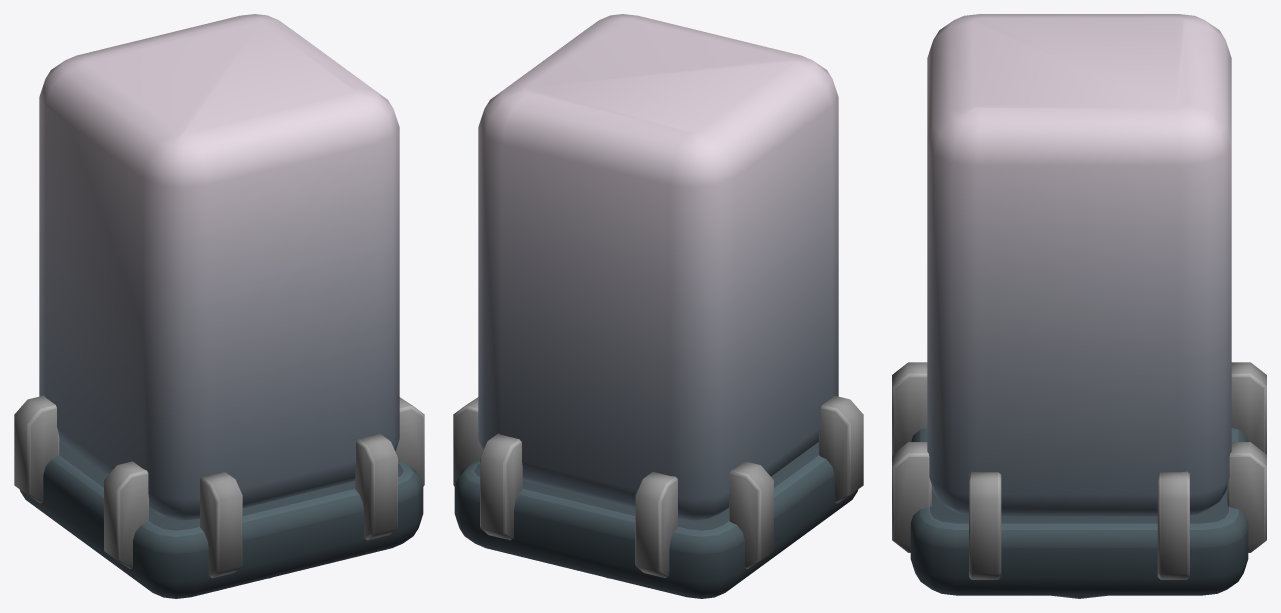
The model's file is sp_food_grower_can_onion.fbx.
3 renders of one model, left to right at view 1: azimuth 30°, elevation 25°; view 2: azimuth 150°, elevation 25°; view 3: azimuth 270°, elevation 25°, orthographic. The views are drawn at different scales.
Visible parts, largest first — view 1: food_canister_onion; view 2: food_canister_onion; view 3: food_canister_onion.
Boxes of the visible parts, x1=… form: food_canister_onion: x1=14, y1=14, x2=424, y2=598; food_canister_onion: x1=453, y1=14, x2=863, y2=598; food_canister_onion: x1=892, y1=14, x2=1266, y2=598.
Bounding box in the file's own units: 52.23 × 78.42 × 52.23.
